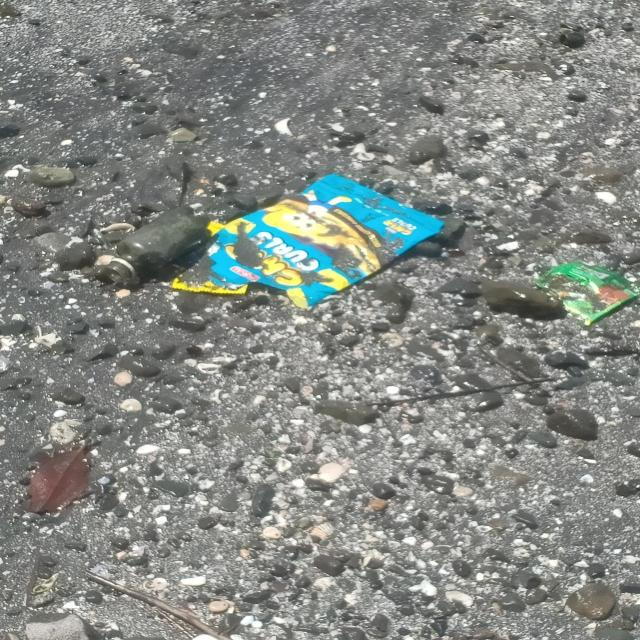plastic_waste: (207, 174, 447, 312), (104, 206, 214, 284), (536, 260, 640, 327)
